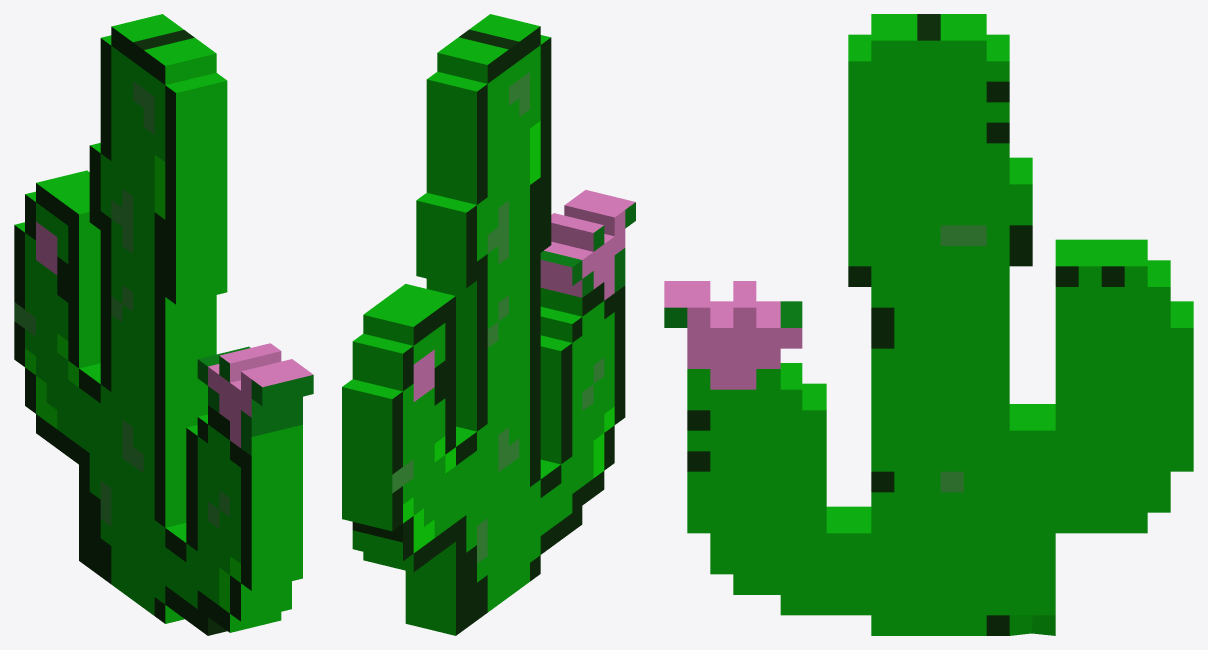
File: cactus.fbx
3 views of the same model, side by side, from view 1: azimuth 30°, elevation 25°; view 2: azimuth 150°, elevation 25°; view 3: azimuth 270°, elevation 25° (orthographic). The views are drawn at different scales.
Visible parts, largest first — view 1: Cube.002; view 2: Cube.002; view 3: Cube.002.
Part boxes in pixels (box(x1,y1,x2,y2)): Cube.002: box(14, 14, 313, 635); Cube.002: box(342, 14, 635, 635); Cube.002: box(664, 14, 1193, 635).
Bounding box in the file's own units: 39.97 × 416 × 335.
